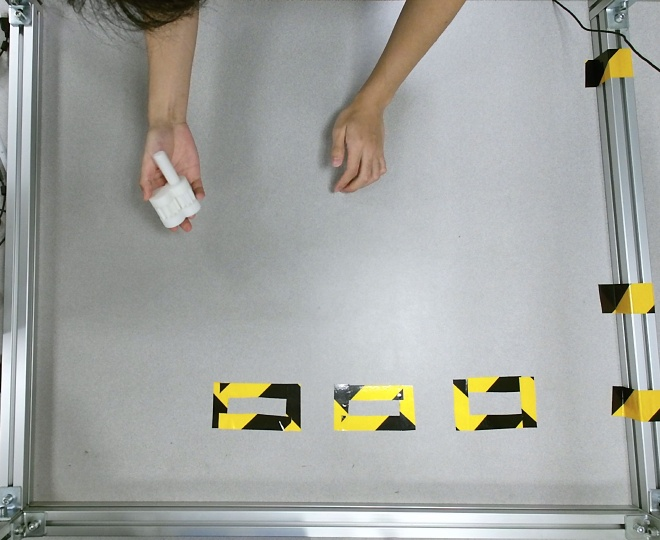stage_4: (147, 149, 201, 229)
